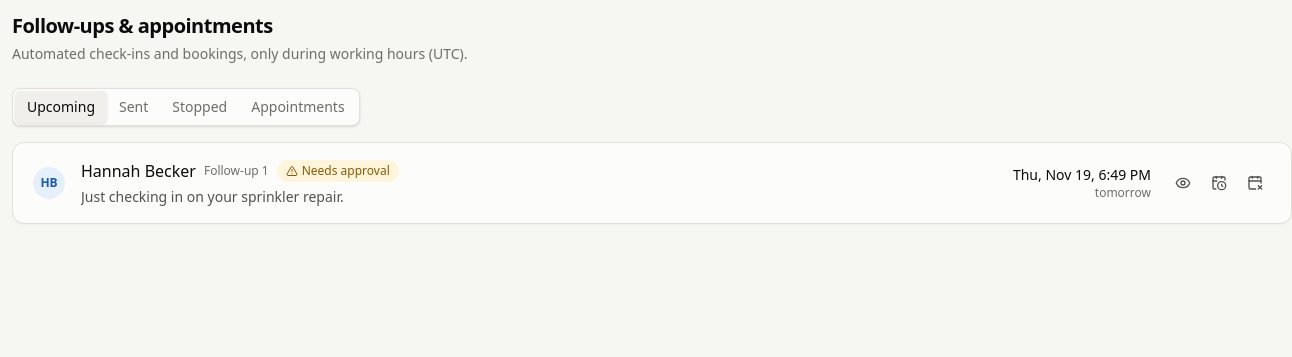
Scenario: Follow-ups › lists upcoming follow-ups with a message preview and switches tabs
The image size is (1292, 357).
expect the link "Hannah Becker" is shown: met, box [81,159,196,183]
expect the text "Just checking in on your sprinkler repair." is shown: met, box [81,187,344,206]
Click the radio button labelled "Sent": (134, 107) [107,91,160,123]
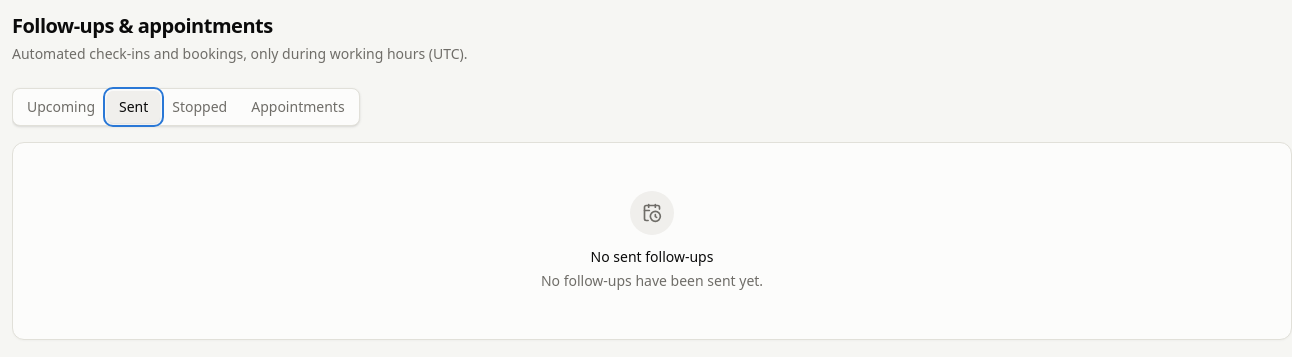
expect the text "No sent follow-ups" is shown: met, box [590,247,713,267]
